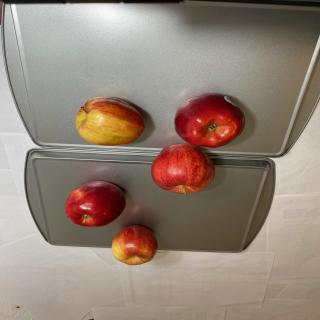Apple: (174, 93, 246, 148), (75, 96, 145, 146), (151, 143, 215, 194), (64, 181, 126, 227), (111, 224, 158, 266)
